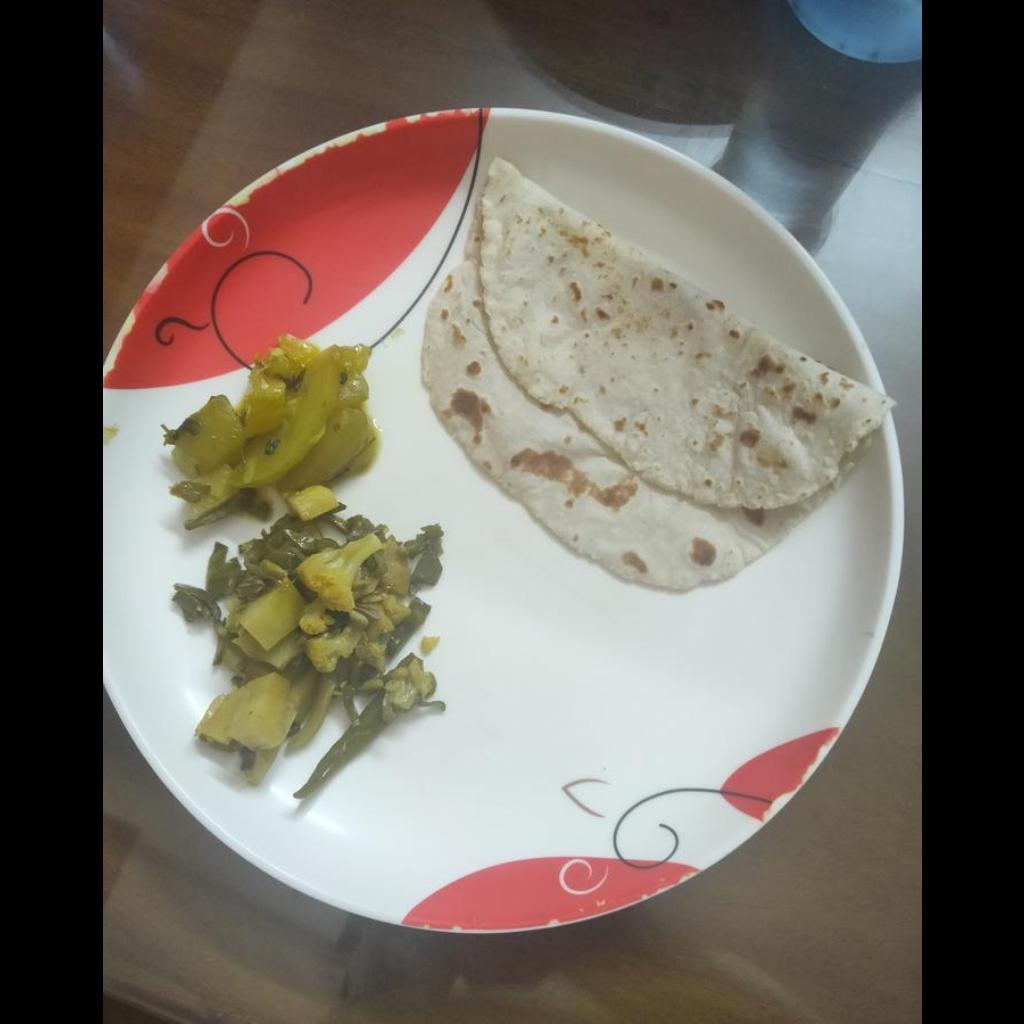ruti: (414, 155, 896, 594)
vegetable: (157, 337, 446, 785)
